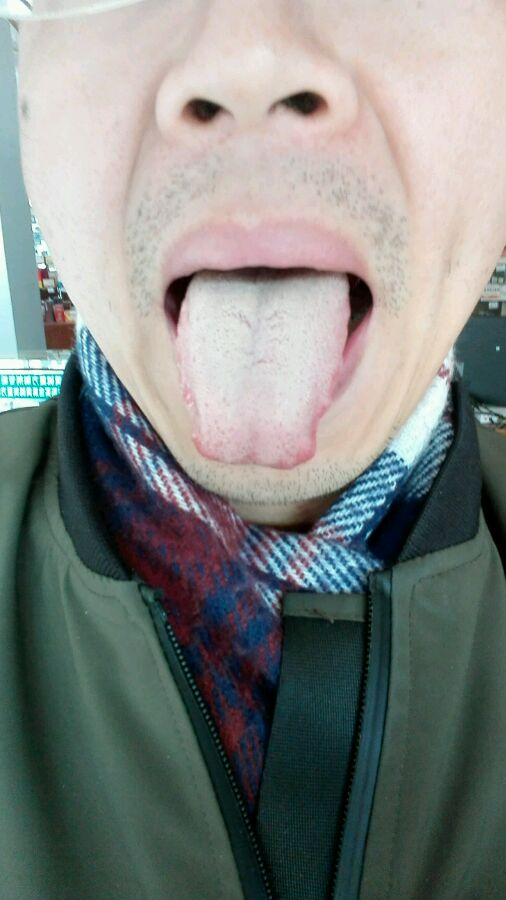baitaishe: (176, 267, 350, 470)
chihenshe: (313, 335, 347, 456), (177, 356, 198, 449)
